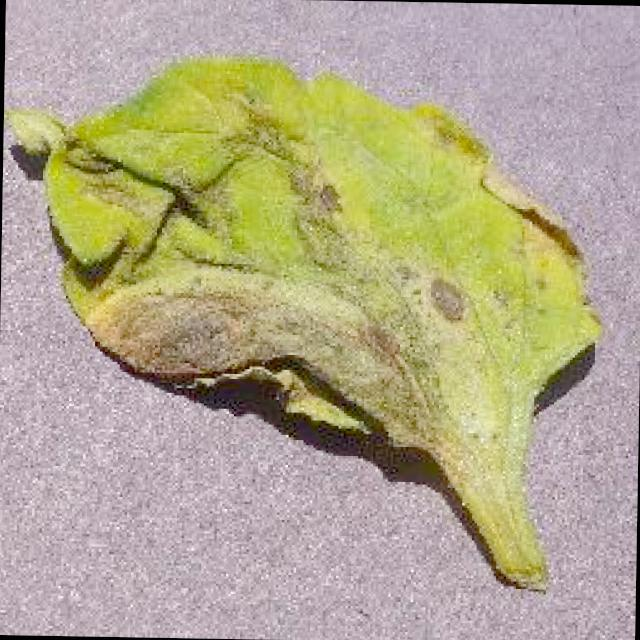Tomato Septoria spot leaf: (8, 49, 606, 458)
